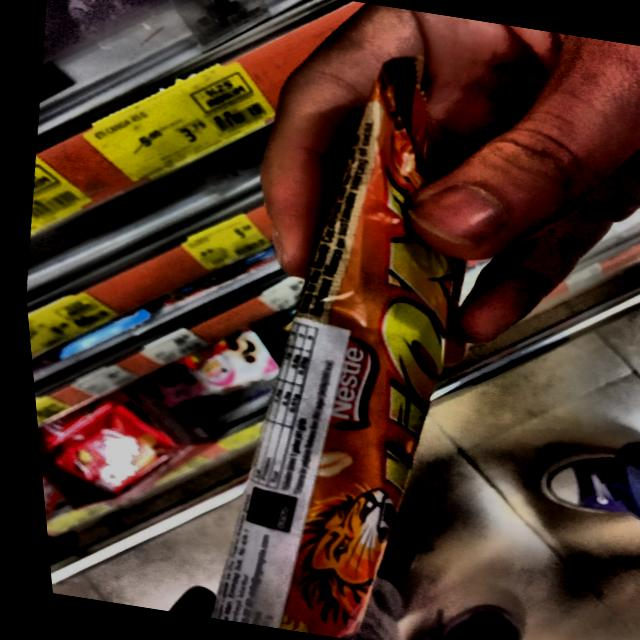Plastic: (194, 57, 495, 640)
